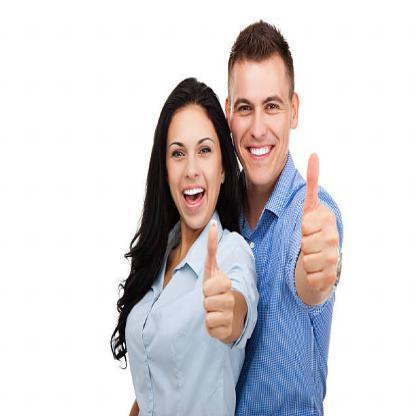thumb_up: (295, 149, 341, 296), (200, 217, 240, 346)
